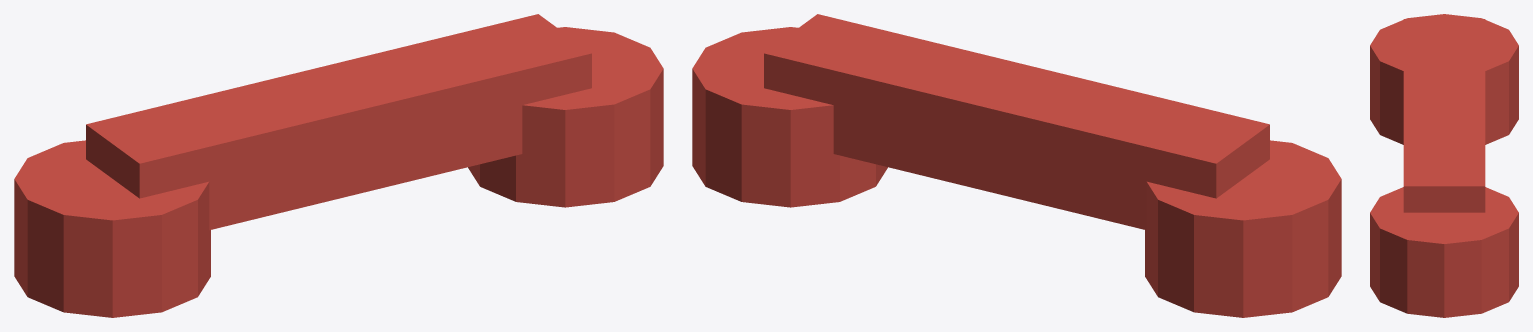
Rendered from phone_handset.glb.
3 views of the same model, side by side, from view 1: azimuth 30°, elevation 25°; view 2: azimuth 150°, elevation 25°; view 3: azimuth 270°, elevation 25° (orthographic). The views are drawn at different scales.
Parts seen in each view (by area): view 1: PhoneHandset; view 2: PhoneHandset; view 3: PhoneHandset.
Boxes of the visible parts, x1,y1,x2,y2 form: PhoneHandset: [14, 14, 663, 317]; PhoneHandset: [692, 14, 1341, 317]; PhoneHandset: [1370, 14, 1518, 317].
Size of the model in its own units: 0.234 by 0.0475 by 0.064.
